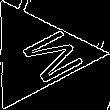M_SW: (0, 21, 75, 87)
